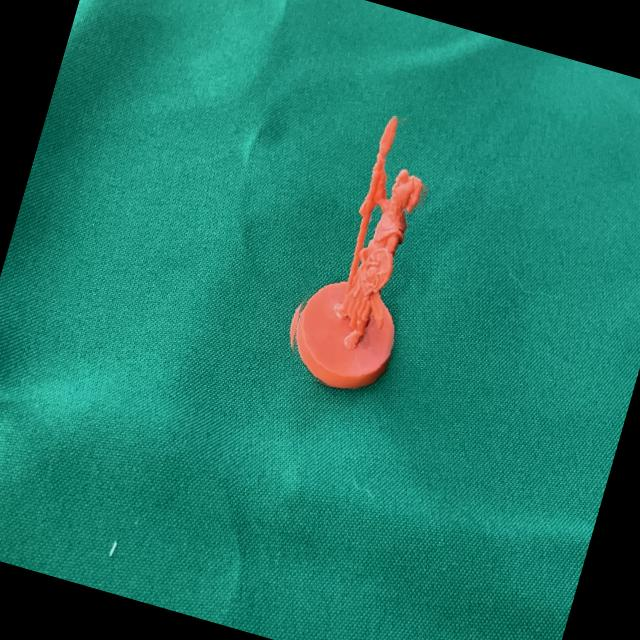amon_follower: (295, 116, 422, 390)
